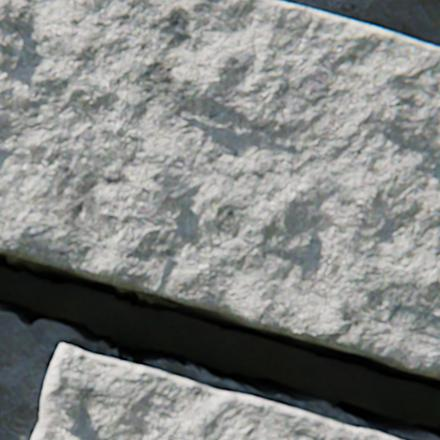brick: (0, 0, 439, 377), (32, 342, 401, 439)
crack: (0, 253, 439, 439)
